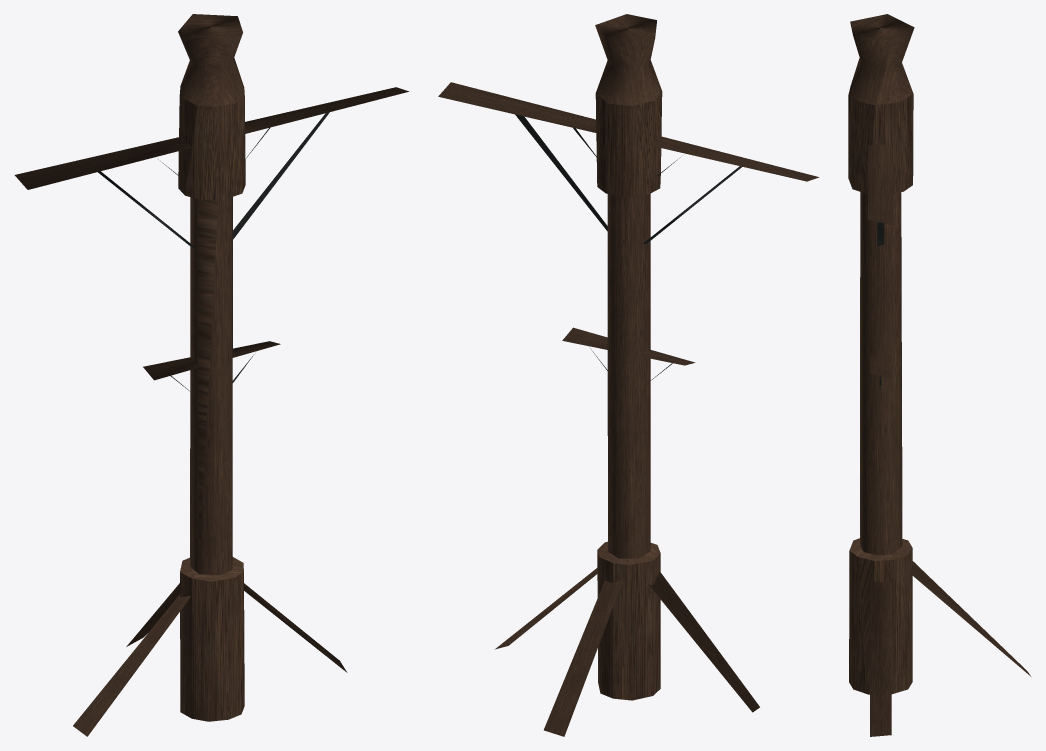
The model's file is armor_stand.fbx.
3 renders of one model, left to right at view 1: azimuth 30°, elevation 25°; view 2: azimuth 150°, elevation 25°; view 3: azimuth 270°, elevation 25°, orthographic. The views are drawn at different scales.
Parts seen in each view (by area): view 1: Armor stand; view 2: Armor stand; view 3: Armor stand.
Boxes of the visible parts, x1,y1,x2,y2 form: Armor stand: [14, 14, 408, 736]; Armor stand: [438, 14, 819, 736]; Armor stand: [848, 14, 1030, 736].
Bounding box in the file's own units: 106 × 182 × 46.02.
